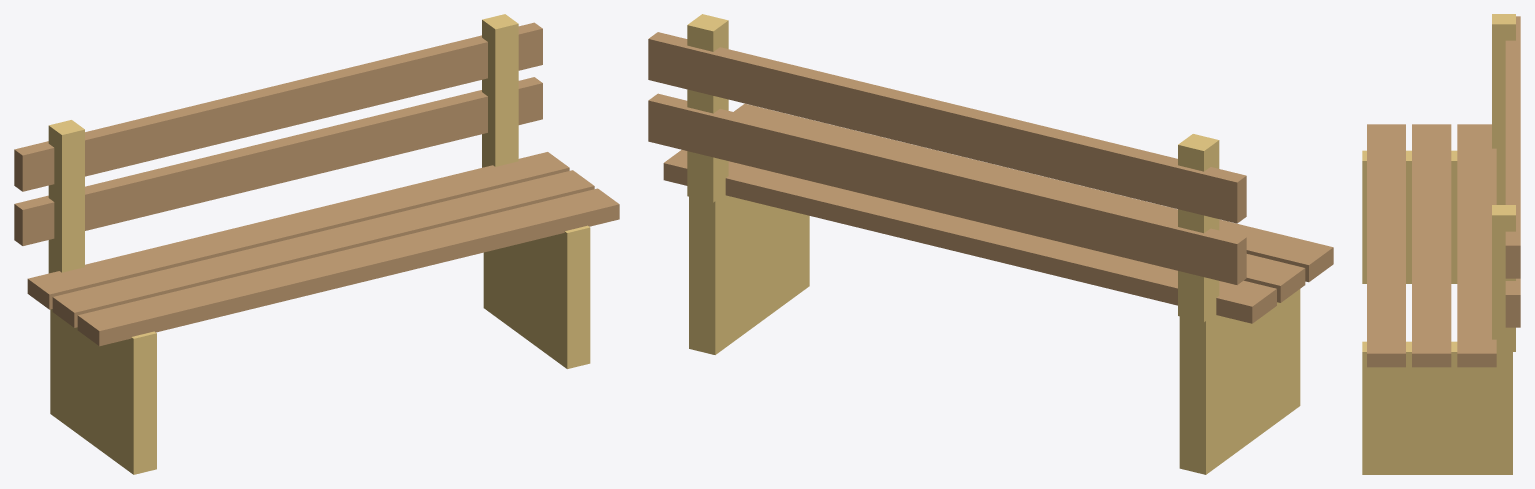
The model's file is HOB_Bench.fbx.
The picture shows the model from 3 angles, left to right: view 1: azimuth 30°, elevation 25°; view 2: azimuth 150°, elevation 25°; view 3: azimuth 270°, elevation 25°; orthographic projection. The views are drawn at different scales.
Visible parts, largest first — view 1: HOB_Bench; view 2: HOB_Bench; view 3: HOB_Bench.
Boxes of the visible parts, x1=… form: HOB_Bench: x1=14, y1=14, x2=619, y2=474; HOB_Bench: x1=648, y1=14, x2=1333, y2=474; HOB_Bench: x1=1362, y1=14, x2=1520, y2=474.
Bounding box in the file's own units: 180 × 95 × 52.5.
